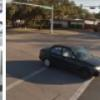cars: (38, 42, 99, 79)
